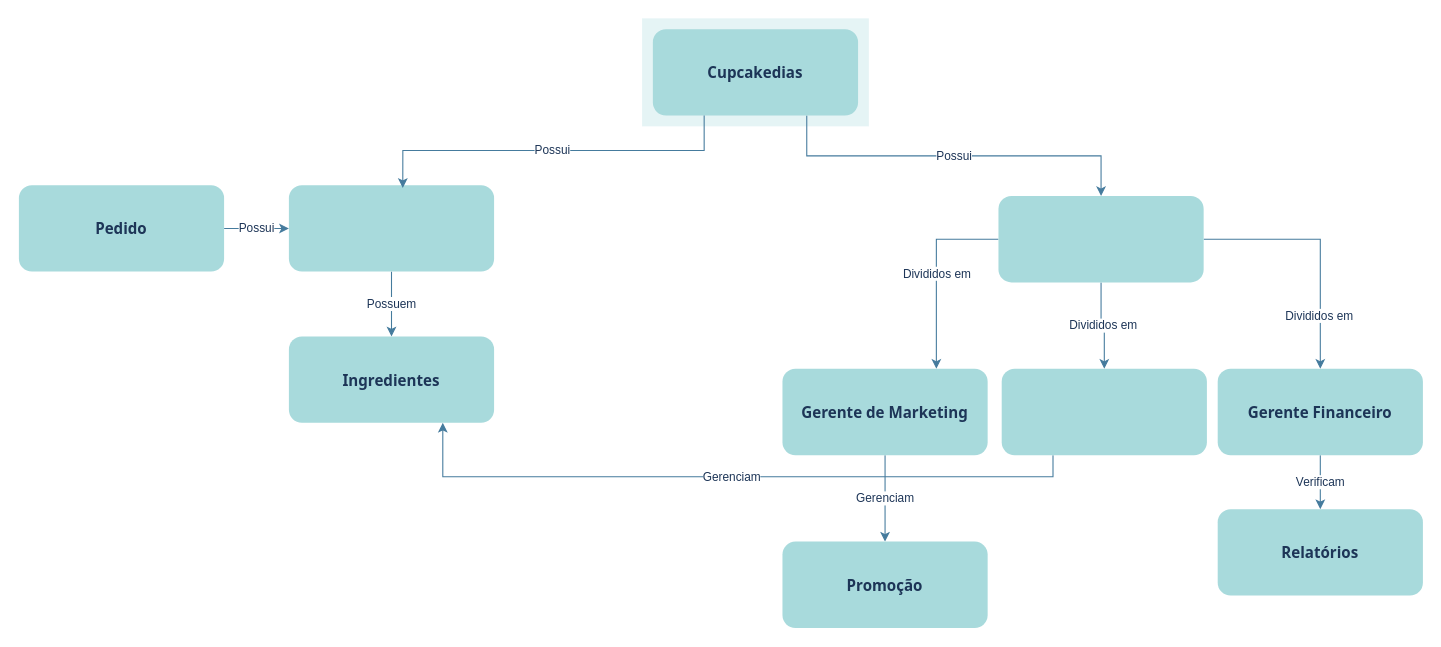
The diagram is 1441 pixels wide and 647 high, and some of its shapes have lost their labels. Each missing label, with the centre of its shape:
"Cupcake" belongs at [391,228].
"Gerente de Produção" belongs at [1103,411].
"Usuário" belongs at [1100,238].
